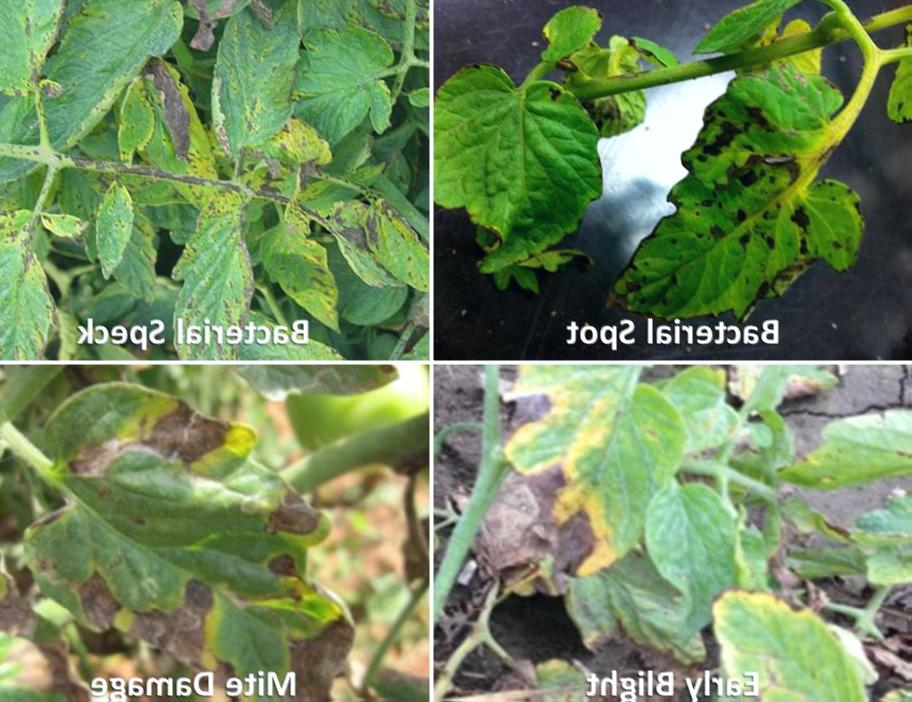Tomato Early blight leaf: (489, 377, 870, 702)
Tomato leaf bacterial spot: (613, 75, 870, 343), (437, 73, 632, 304), (0, 0, 182, 199), (166, 169, 273, 357), (202, 0, 316, 175), (0, 201, 97, 354), (77, 162, 148, 279), (112, 69, 163, 160)
